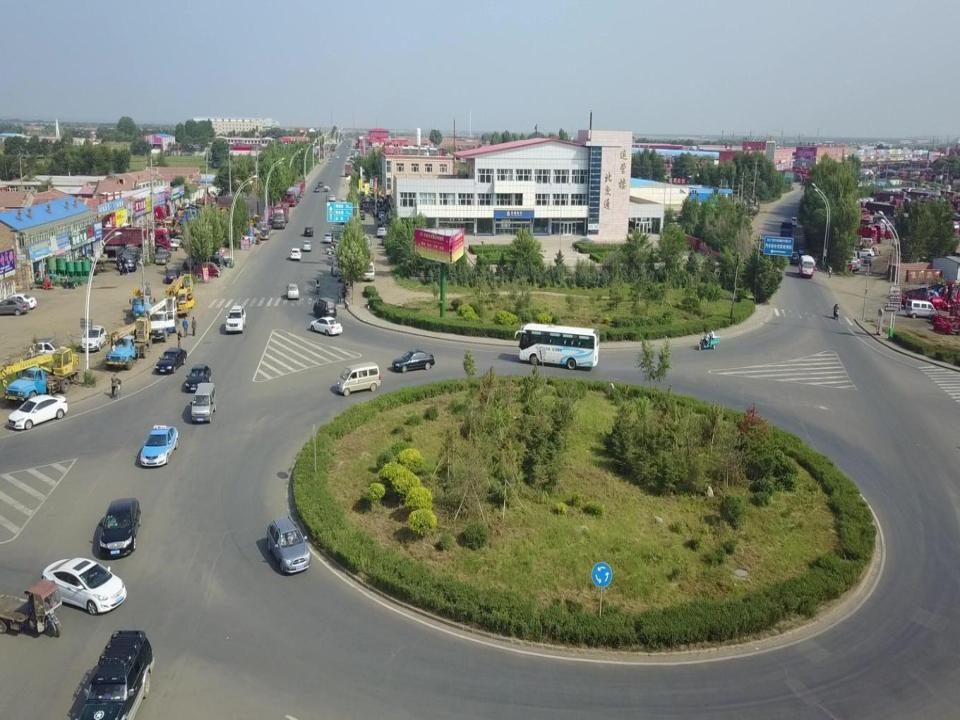bus: (515, 324, 600, 363), (799, 255, 815, 279)
car: (72, 628, 153, 720), (41, 559, 124, 615), (267, 516, 312, 571), (100, 497, 139, 559), (6, 392, 66, 431), (139, 424, 178, 470), (392, 349, 436, 372), (30, 337, 68, 363), (153, 349, 187, 374), (81, 325, 107, 353), (310, 316, 342, 337), (225, 305, 247, 333), (0, 298, 29, 316), (2, 294, 36, 307), (171, 235, 195, 248), (210, 253, 234, 266), (120, 254, 136, 271), (155, 248, 170, 266), (288, 282, 300, 302), (288, 248, 301, 261), (166, 269, 178, 283), (259, 226, 270, 241), (323, 232, 335, 243), (302, 239, 312, 252), (304, 225, 314, 237), (790, 252, 799, 264), (377, 228, 387, 237), (864, 255, 872, 266), (790, 216, 798, 226), (329, 193, 335, 200), (314, 186, 320, 193), (324, 185, 330, 191), (336, 153, 340, 160), (317, 181, 322, 186), (328, 159, 332, 163)
truck: (5, 363, 80, 403), (106, 322, 151, 370), (91, 226, 171, 247), (148, 294, 168, 342), (837, 222, 877, 243), (846, 221, 886, 241), (854, 218, 894, 238), (132, 282, 152, 318), (284, 179, 305, 207), (271, 200, 287, 228), (359, 253, 374, 282), (779, 220, 792, 237), (344, 164, 352, 176)
van: (334, 363, 382, 397), (190, 383, 218, 423), (906, 298, 938, 318), (312, 298, 336, 318), (194, 262, 221, 278), (197, 254, 224, 270)
